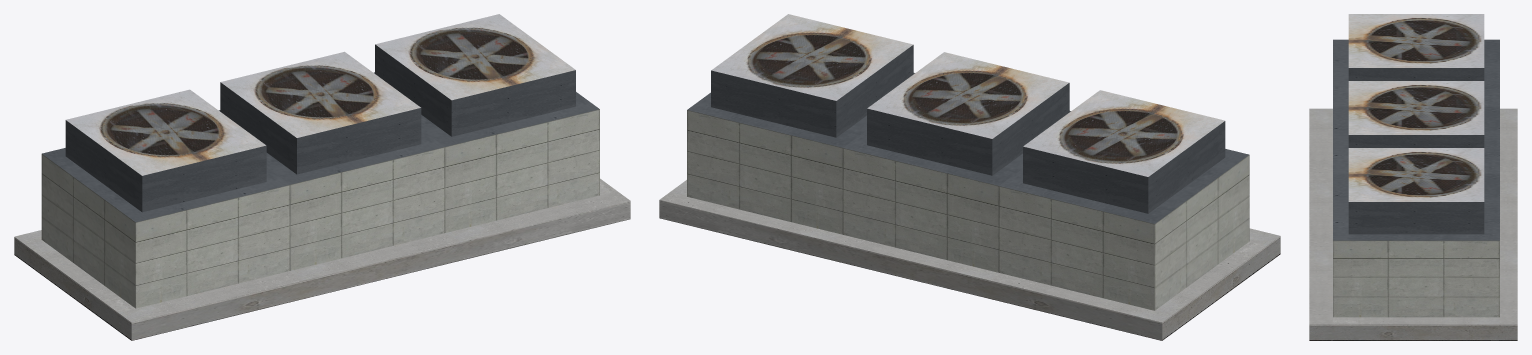
The model's file is roof addon8.FBX.
3 views of the same model, side by side, from view 1: azimuth 30°, elevation 25°; view 2: azimuth 150°, elevation 25°; view 3: azimuth 270°, elevation 25° (orthographic). The views are drawn at different scales.
Visible parts, largest first — view 1: roof addon8; view 2: roof addon8; view 3: roof addon8.
Part boxes in pixels (x1,y1,x2,y2): roof addon8: (14,14,630,340); roof addon8: (659,14,1280,340); roof addon8: (1309,14,1517,340).
Bounding box in the file's own units: 15.31 × 4.13 × 6.25.
